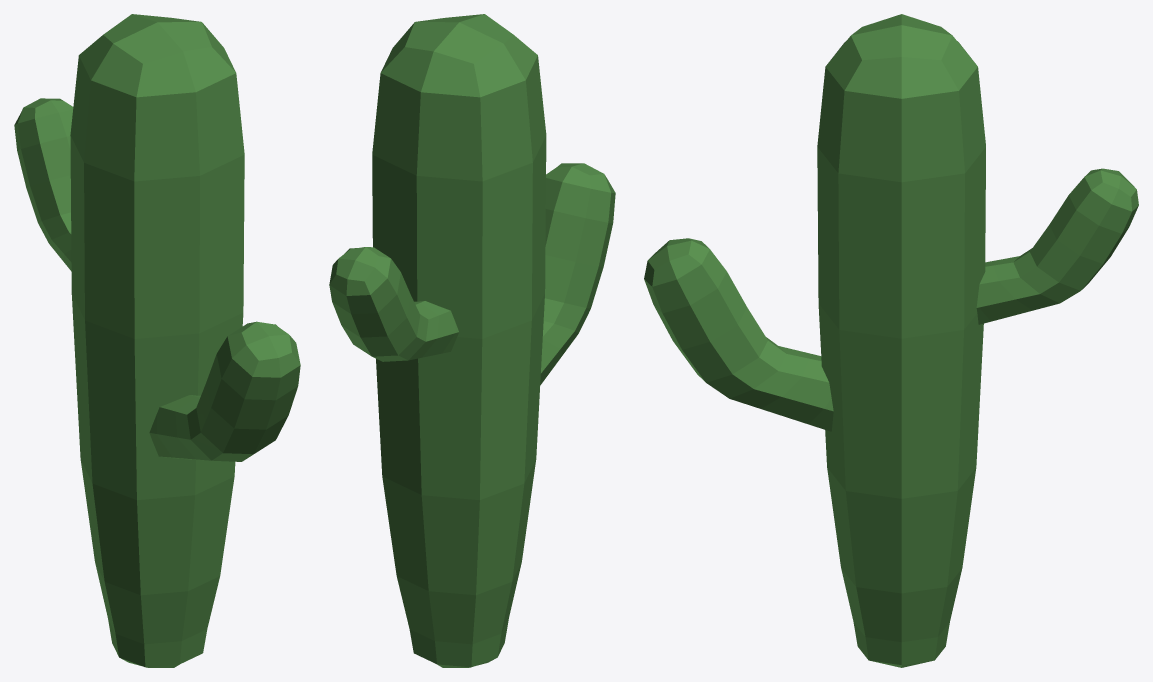
File: cactus_saguaro.glb
The picture shows the model from 3 angles, left to right: view 1: azimuth 30°, elevation 25°; view 2: azimuth 150°, elevation 25°; view 3: azimuth 270°, elevation 25°; orthographic projection.
Parts seen in each view (by area): view 1: cactus_saguaro; view 2: cactus_saguaro; view 3: cactus_saguaro.
Part boxes in pixels (x1,y1,x2,y2): cactus_saguaro: (14, 14, 300, 667); cactus_saguaro: (329, 14, 615, 667); cactus_saguaro: (644, 14, 1138, 667).
Bounding box in the file's own units: 0.9209 × 3.8 × 2.7.
